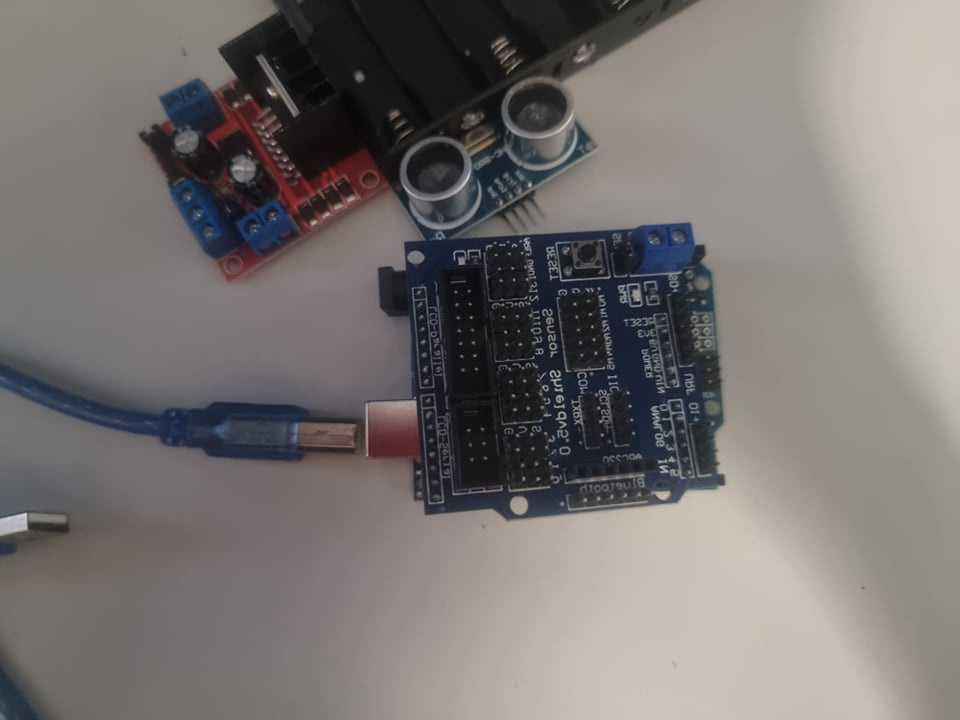5V EXPANSION: (425, 213, 717, 518)
BATTERY BOX: (280, 3, 685, 150)
MOTOR: (116, 13, 386, 282)
SENSOR: (401, 73, 590, 242)
